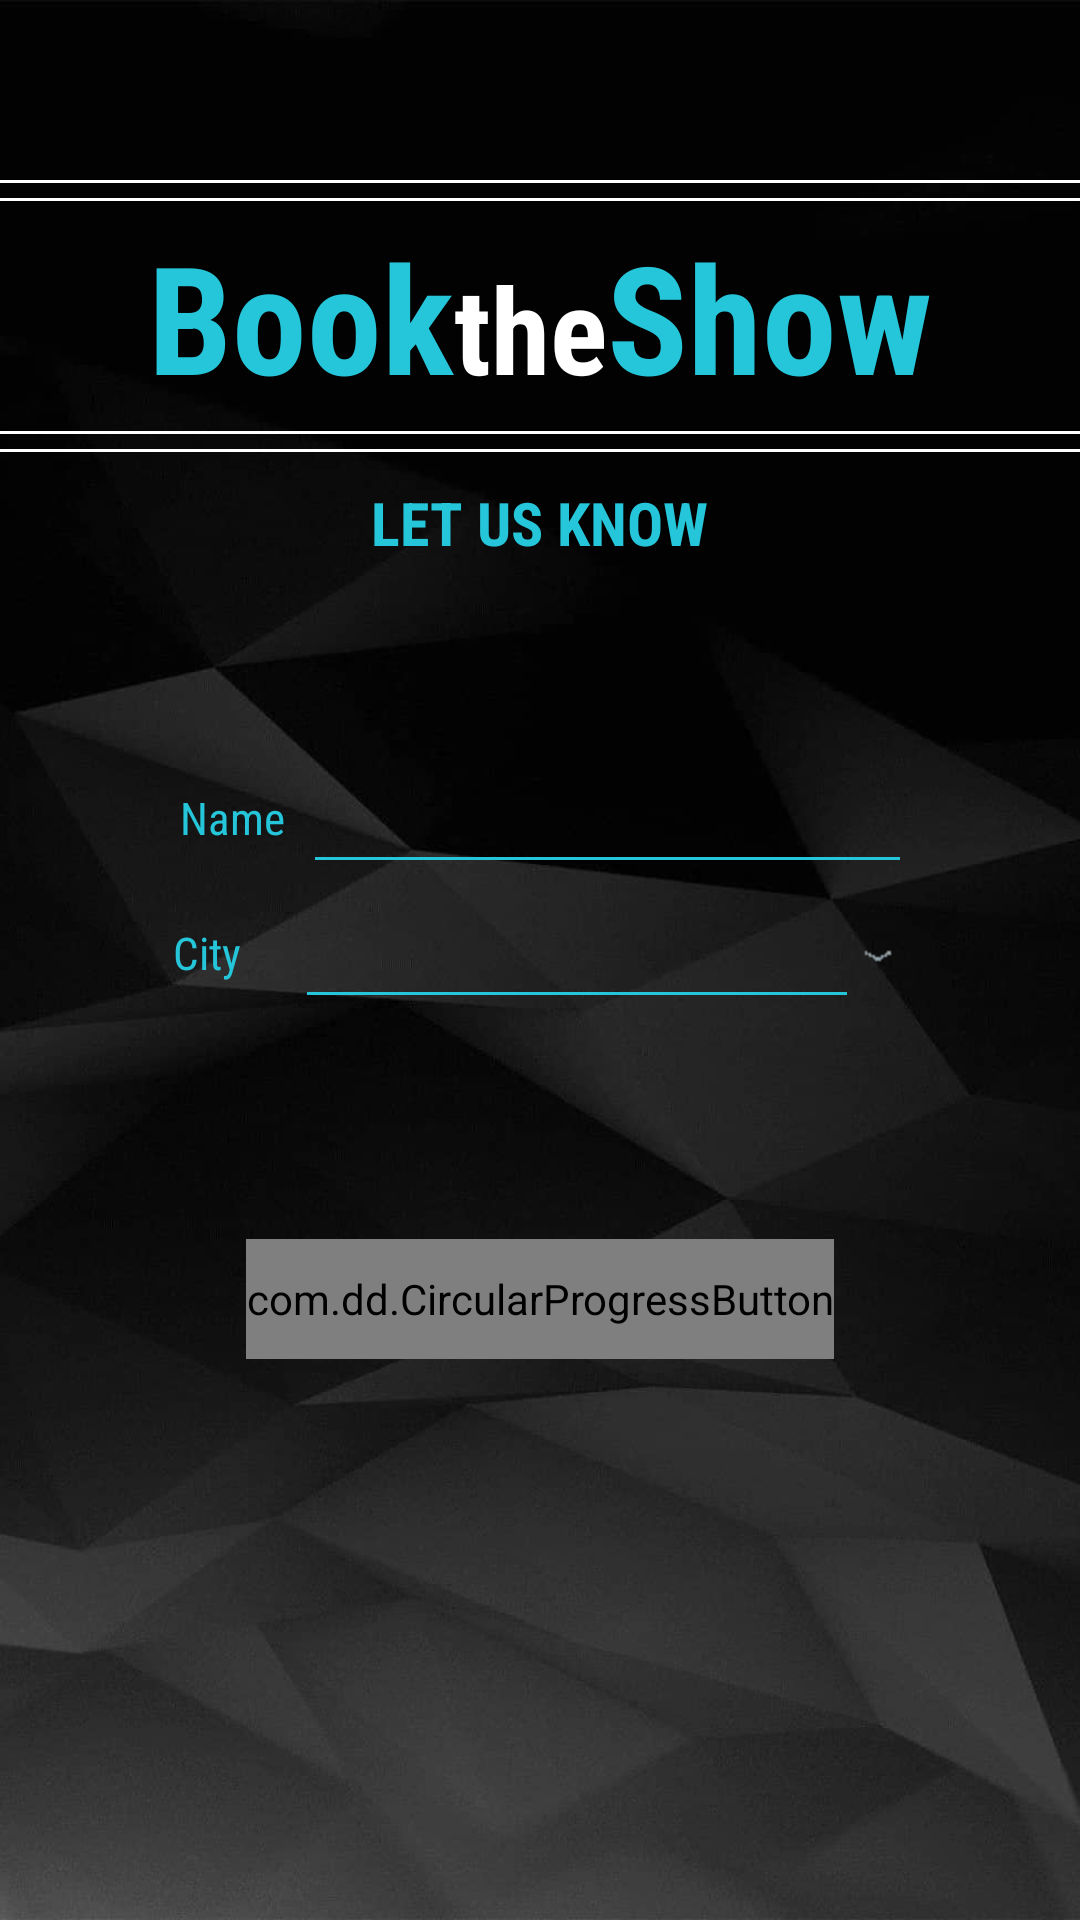

Screen size 1080*1920. Icon name, then its box in pixels as (x1, y1, x2, y2):
arroww: (864, 950, 892, 962)
